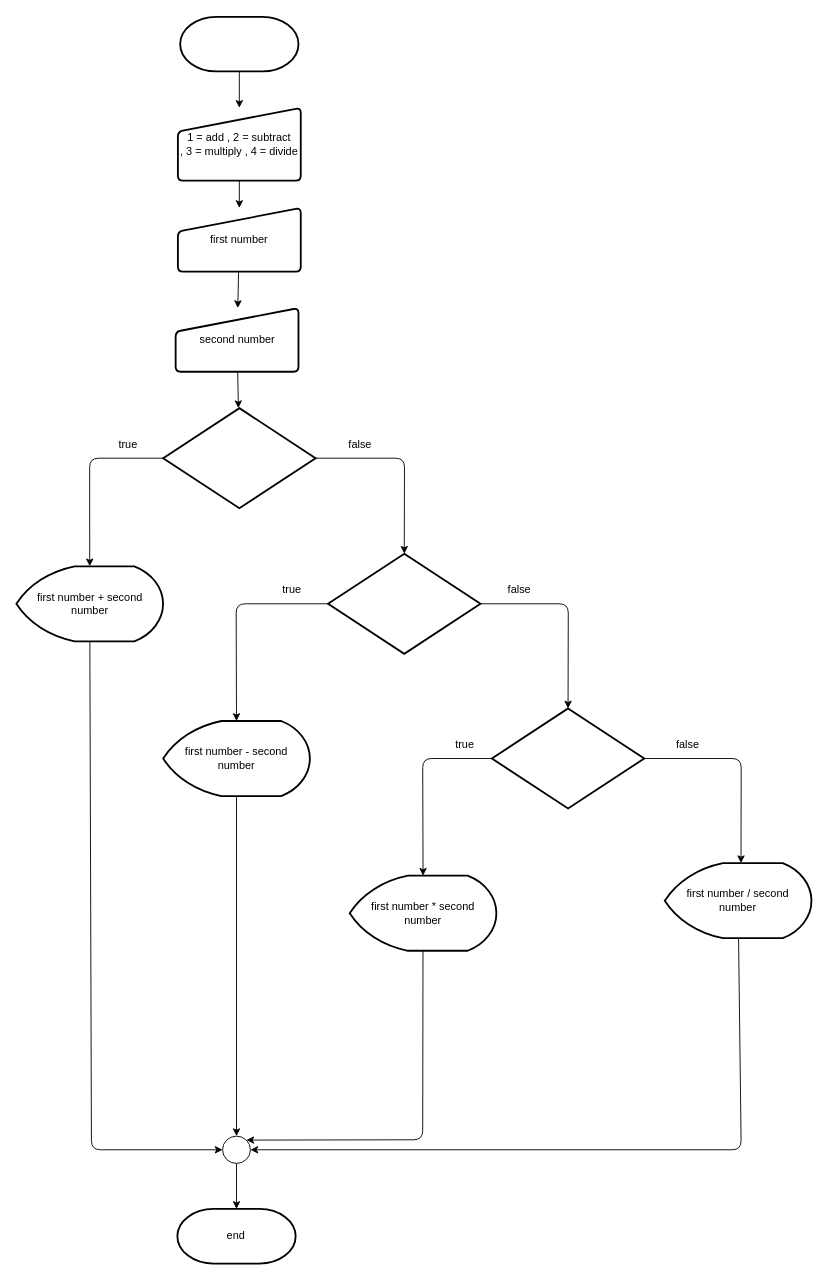
This 828x1279 diagram has some shape labels left out. The shapes that lost their labels are listed below. From the top down, each one's centre as x and y in pixels, then its label:
At pixel 239 43: "start".
At pixel 239 458: "operations from 1".
At pixel 404 603: "operations from 2".
At pixel 567 758: "operations from 3".
